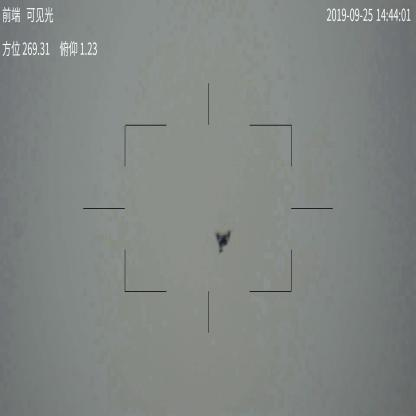uav: (213, 228, 232, 252)
